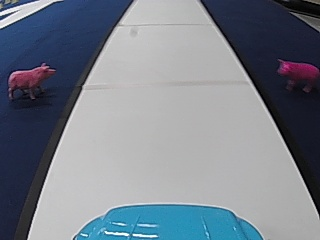pig: (6, 61, 53, 98), (274, 55, 317, 93)
